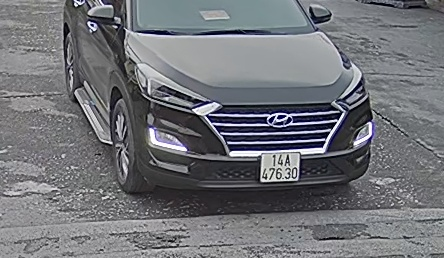vehicle plate: (257, 149, 303, 184)
